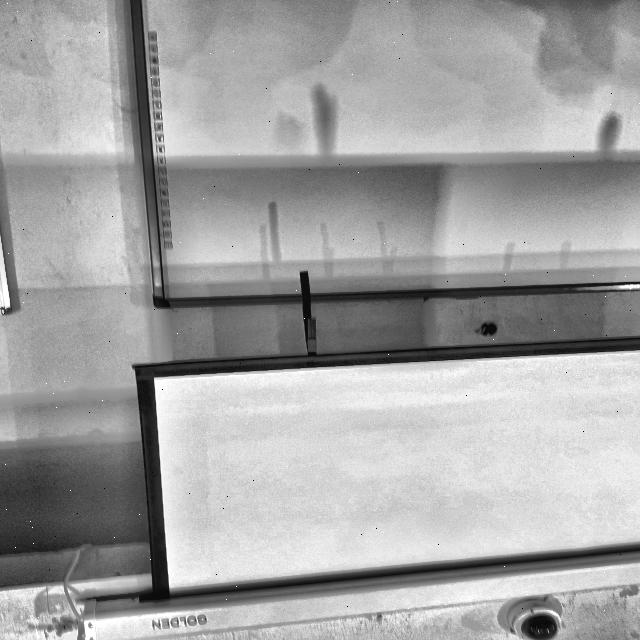screen: (147, 6, 640, 304), (122, 354, 628, 634)
